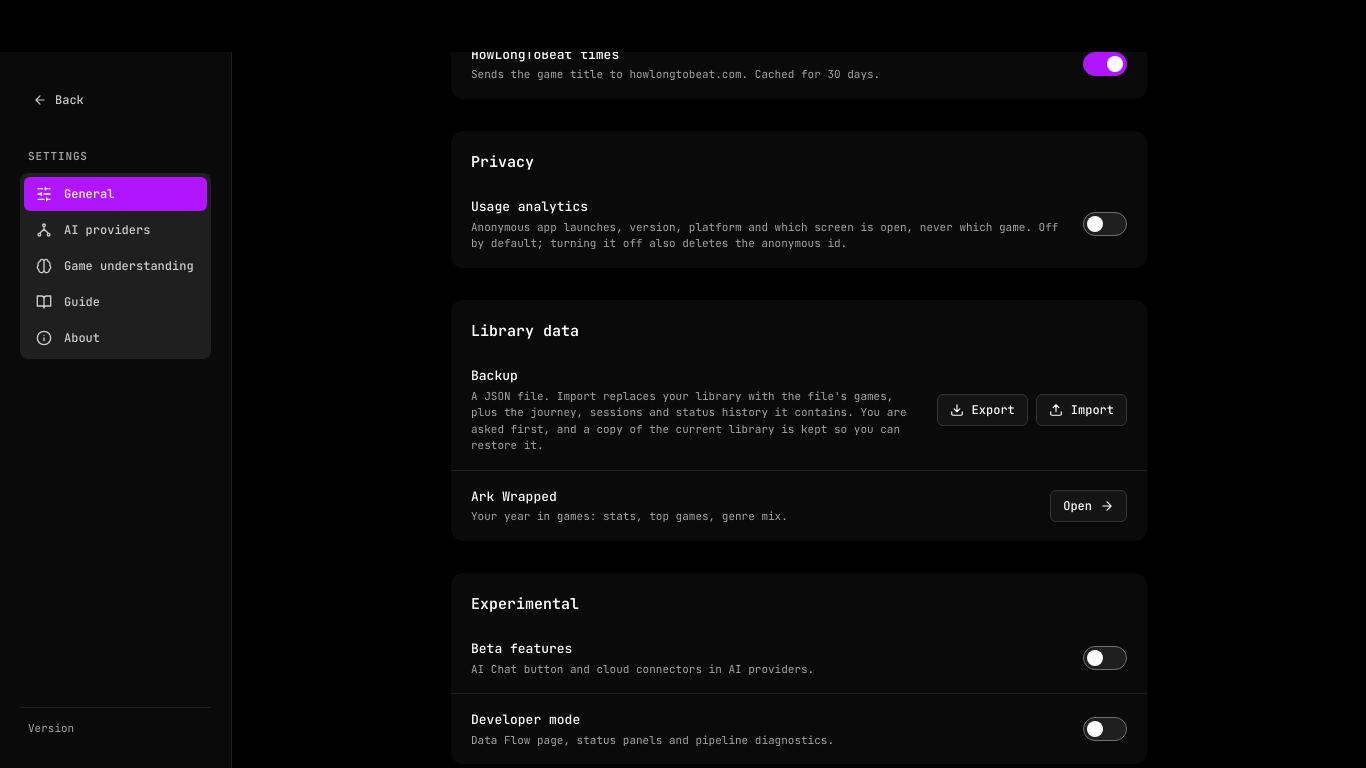
Test case: density and toasts › a failed import is a toast with Try another that stays until dismissed
This screenshot has width=1366, height=768.
(page scrolled)
Step 1. Click the button "Import" → click(1081, 410), box left=1036, top=394, right=1127, bottom=426
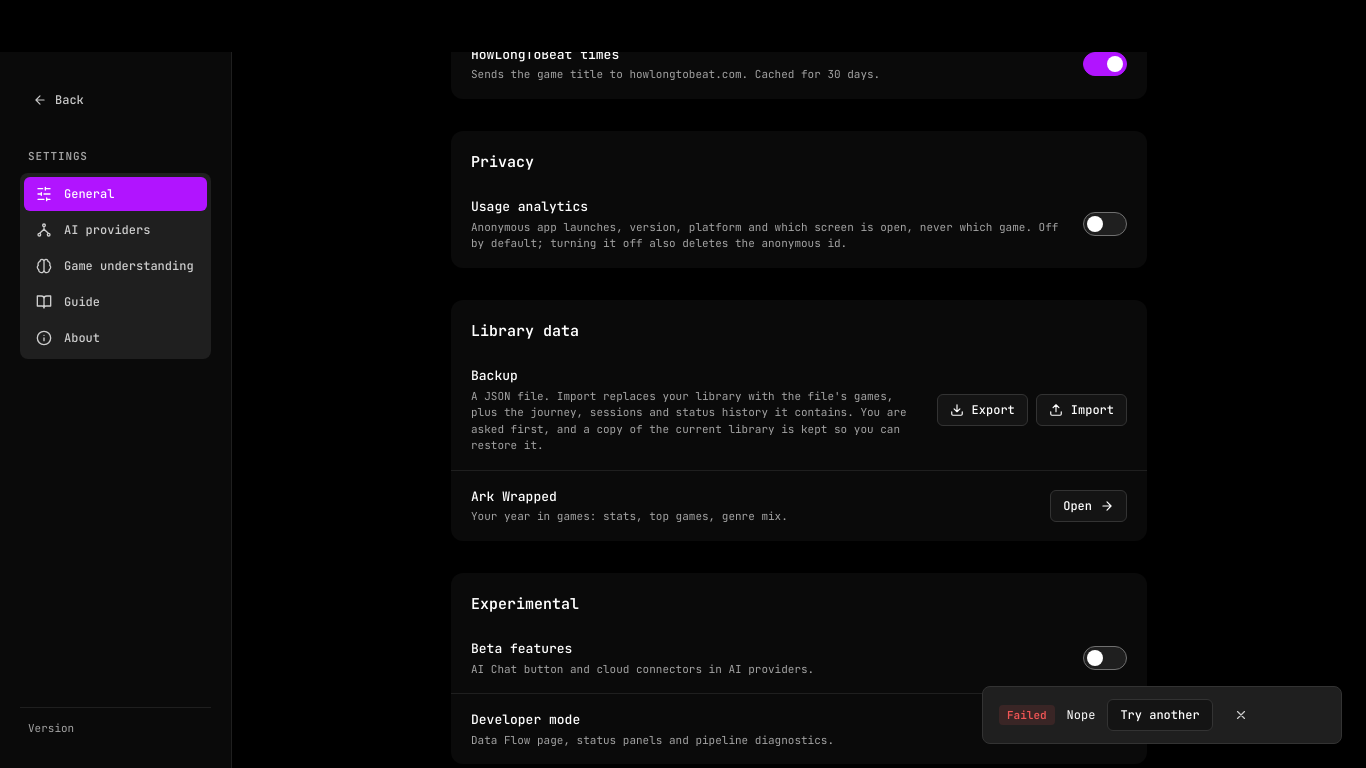
expect the text "Nope" is shown: met, box left=1067, top=706, right=1095, bottom=724
expect the text "Failed" is shown: met, box left=999, top=705, right=1055, bottom=725
expect the button "Try another" is shown: met, box left=1107, top=699, right=1213, bottom=731
Step 2. Click the button named "Dismiss" → click(1241, 715), box left=1225, top=699, right=1257, bottom=731
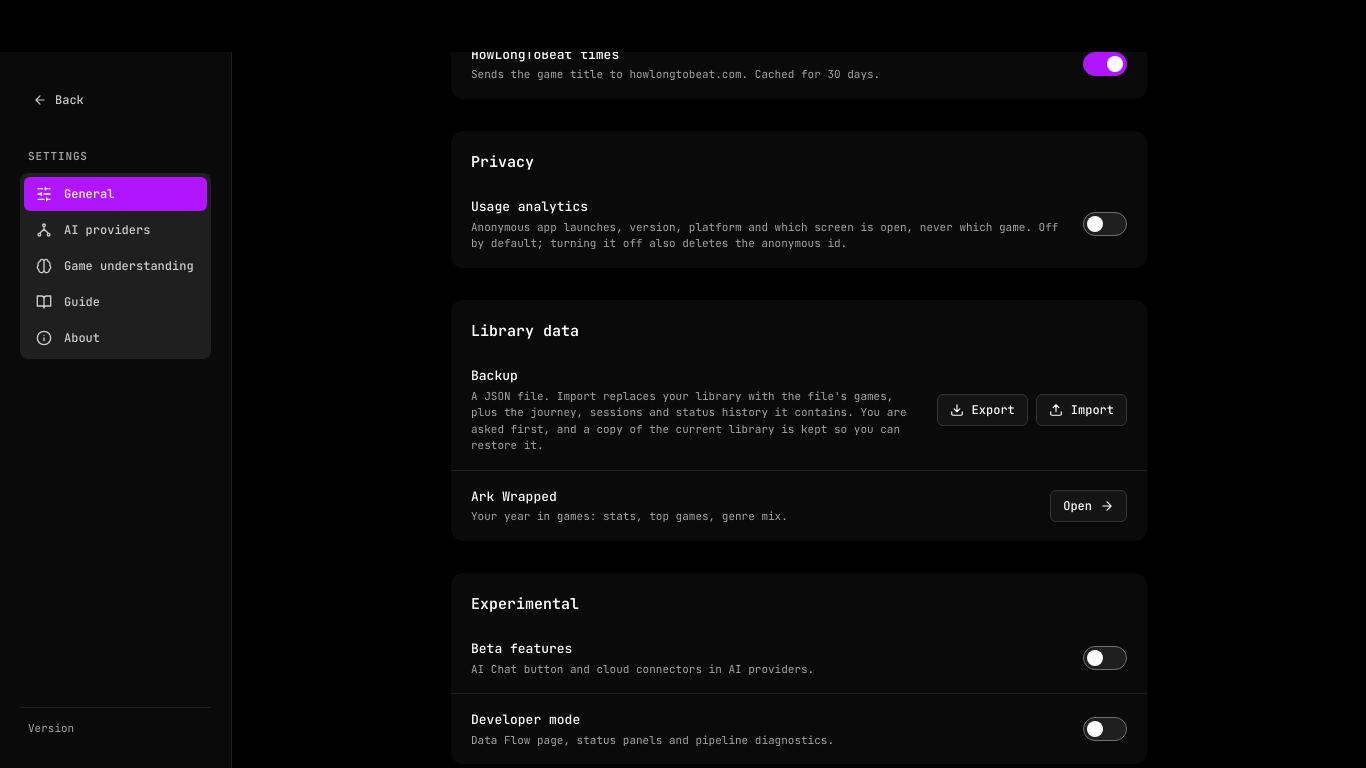
expect the message "Failed Nope Try another" is gone: met
